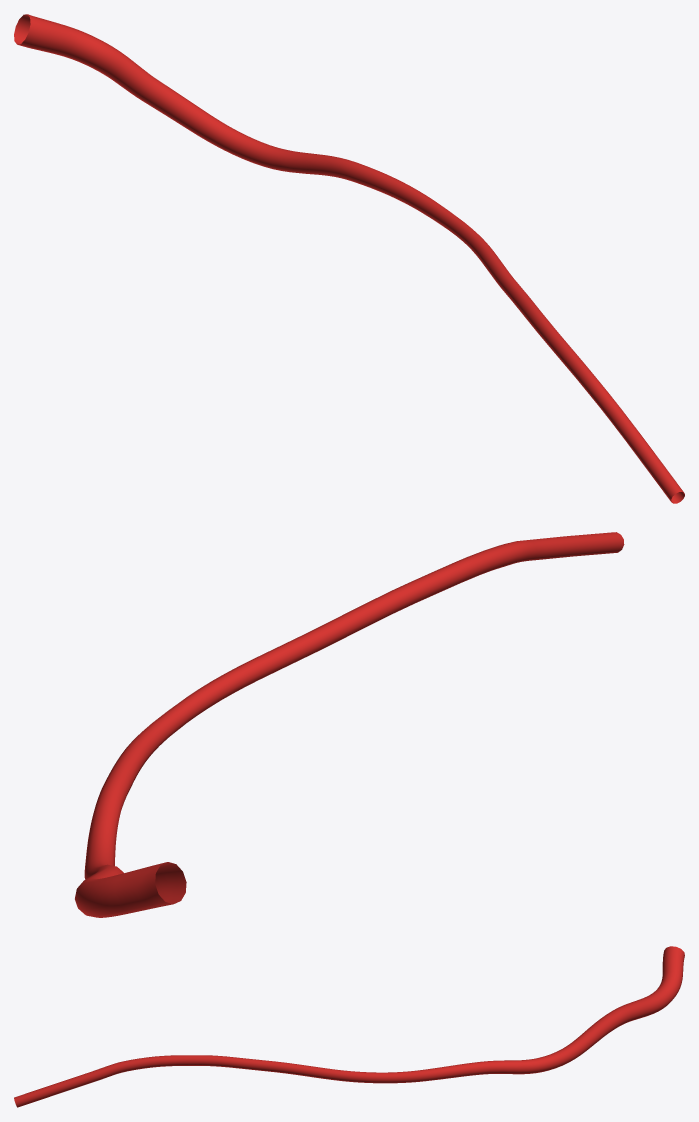
The model's file is circulatorio-maxillary-veins-r.glb.
The picture shows the model from 3 angles, top to bottom: view 1: azimuth 30°, elevation 25°; view 2: azimuth 150°, elevation 25°; view 3: azimuth 270°, elevation 25°; orthographic projection. The views are drawn at different scales.
Parts seen in each view (by area): view 1: Maxillary veins.r; view 2: Maxillary veins.r; view 3: Maxillary veins.r.
Part boxes in pixels (x1,y1,x2,y2): Maxillary veins.r: (14, 14, 684, 503); Maxillary veins.r: (75, 532, 624, 917); Maxillary veins.r: (14, 946, 684, 1107).
Bounding box in the file's own units: 0.016 × 0.0113 × 0.0624.
